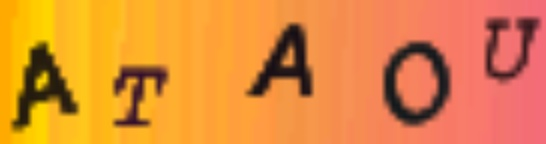A: (7, 37, 82, 130), (239, 21, 318, 100)
O: (382, 40, 455, 129)
T: (108, 63, 171, 129)
U: (475, 12, 541, 88)
